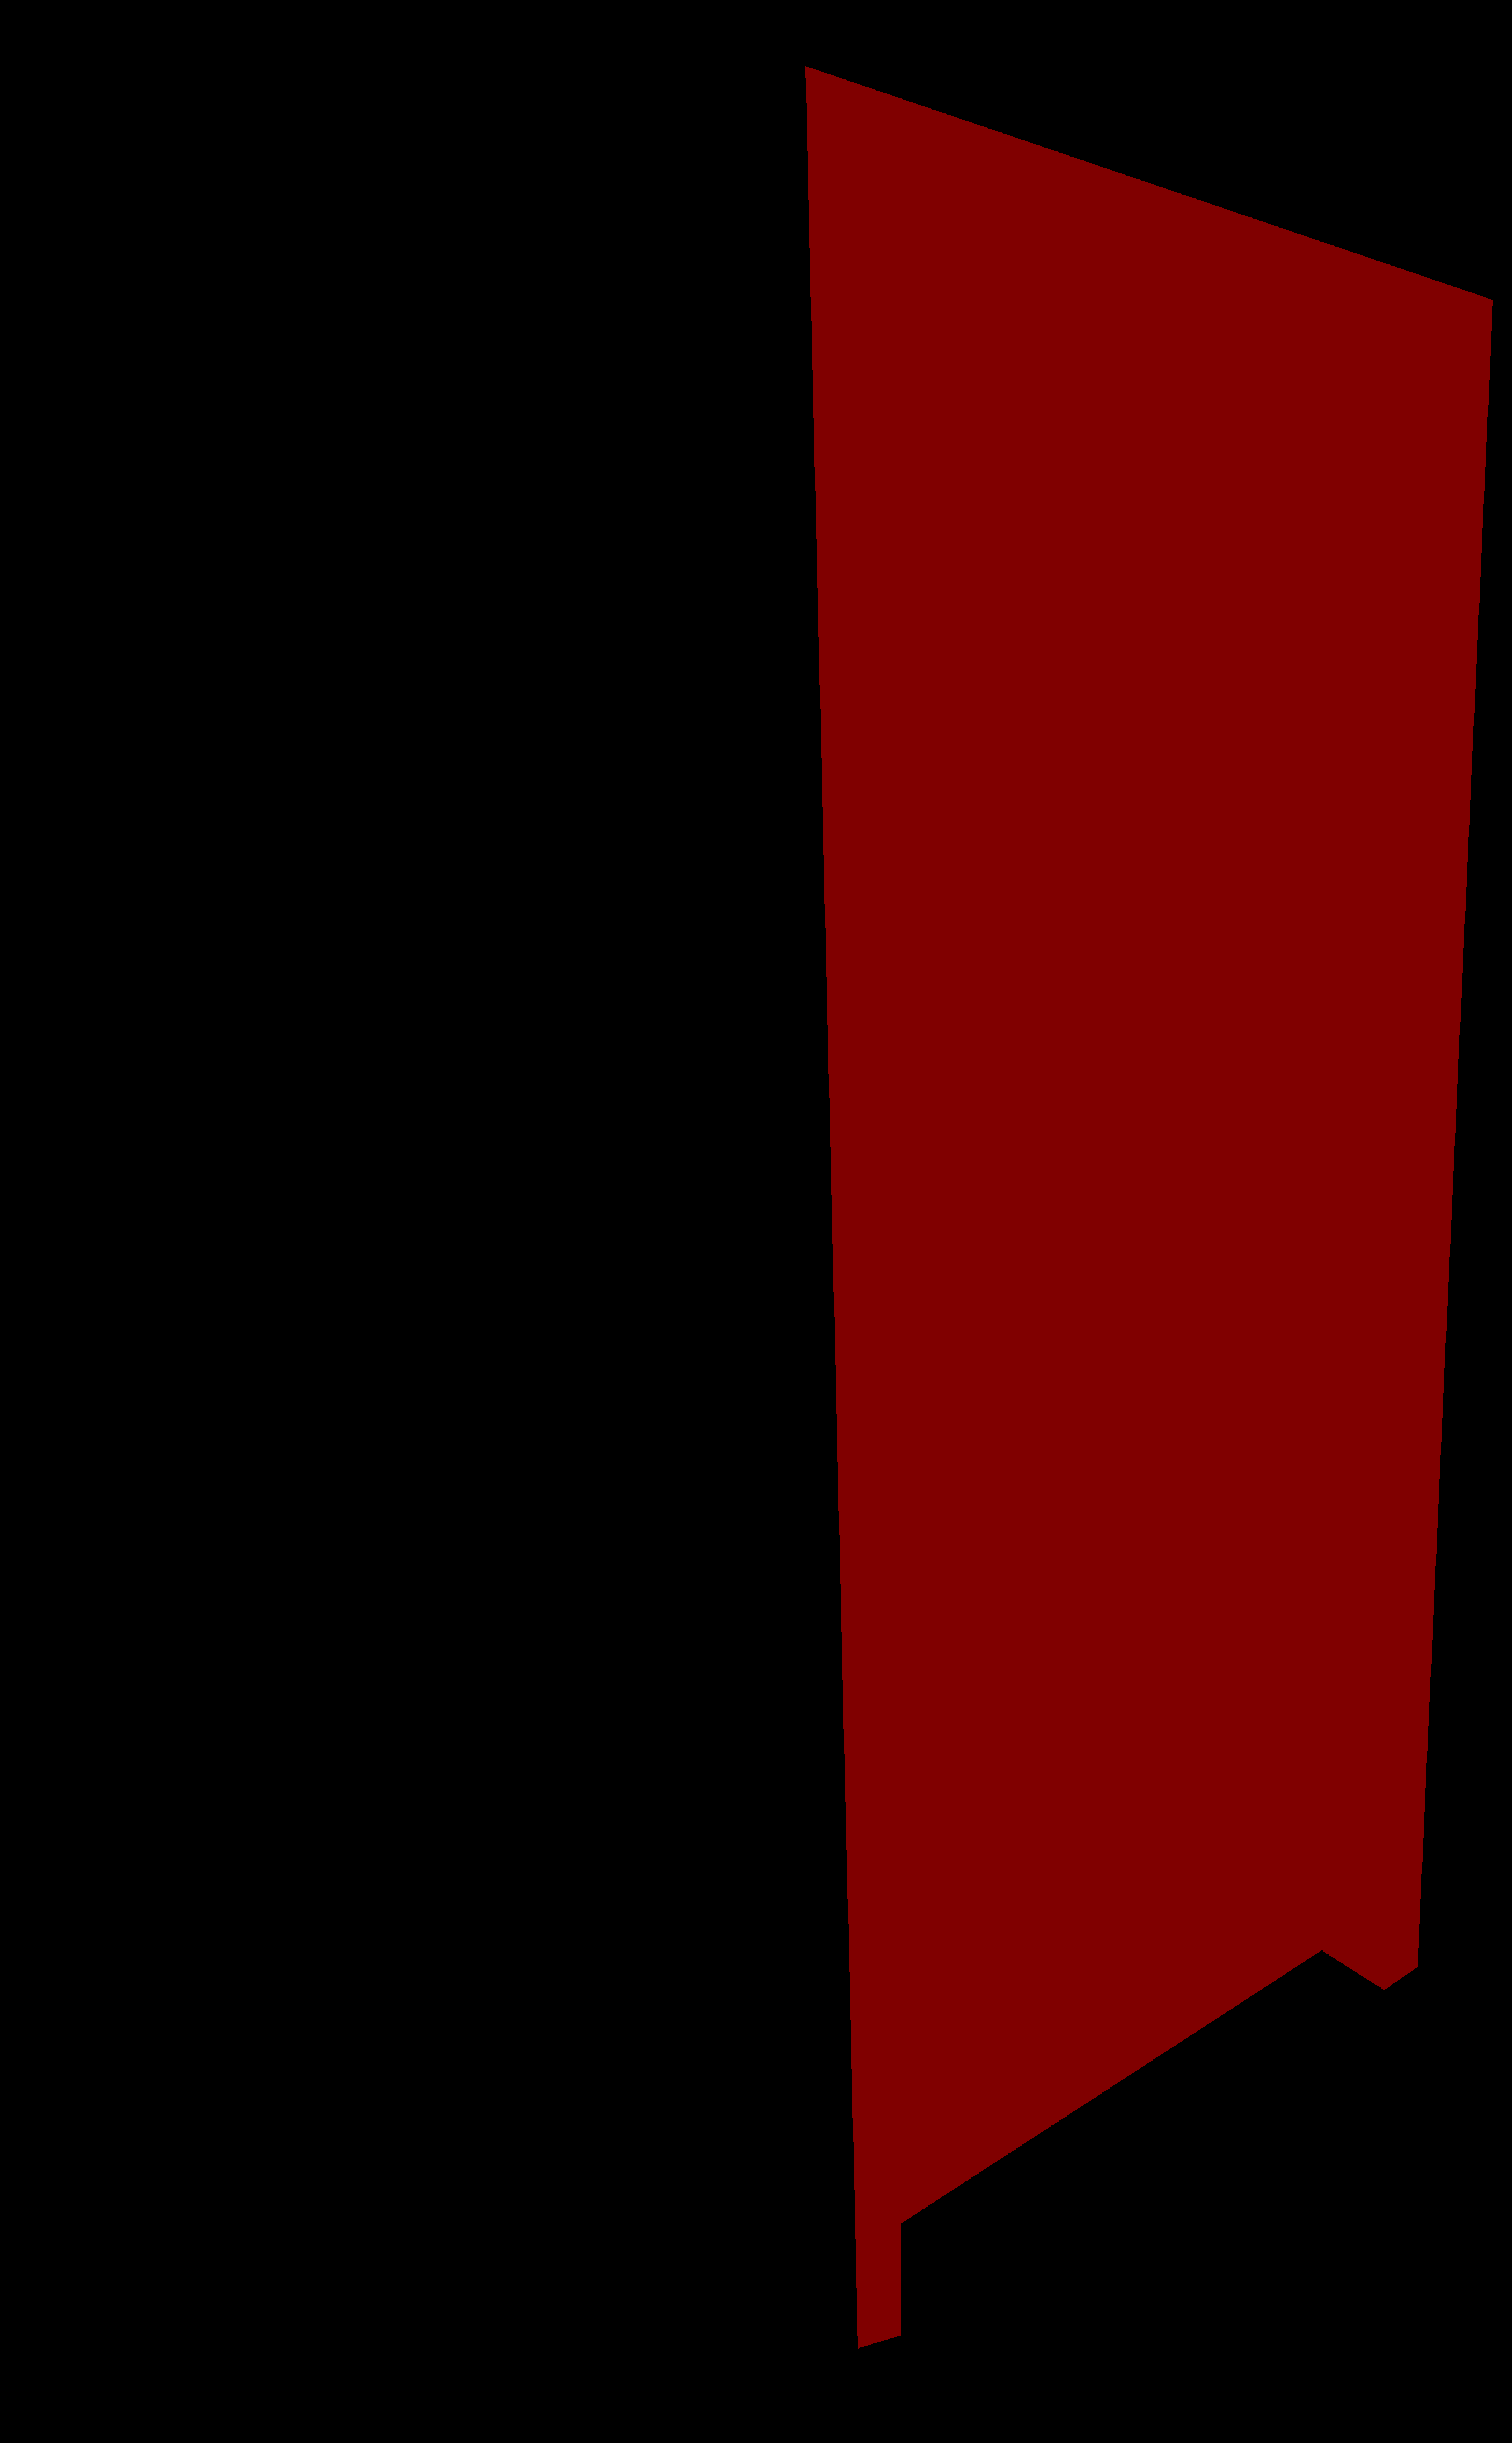door: (806, 66, 1493, 2349)
